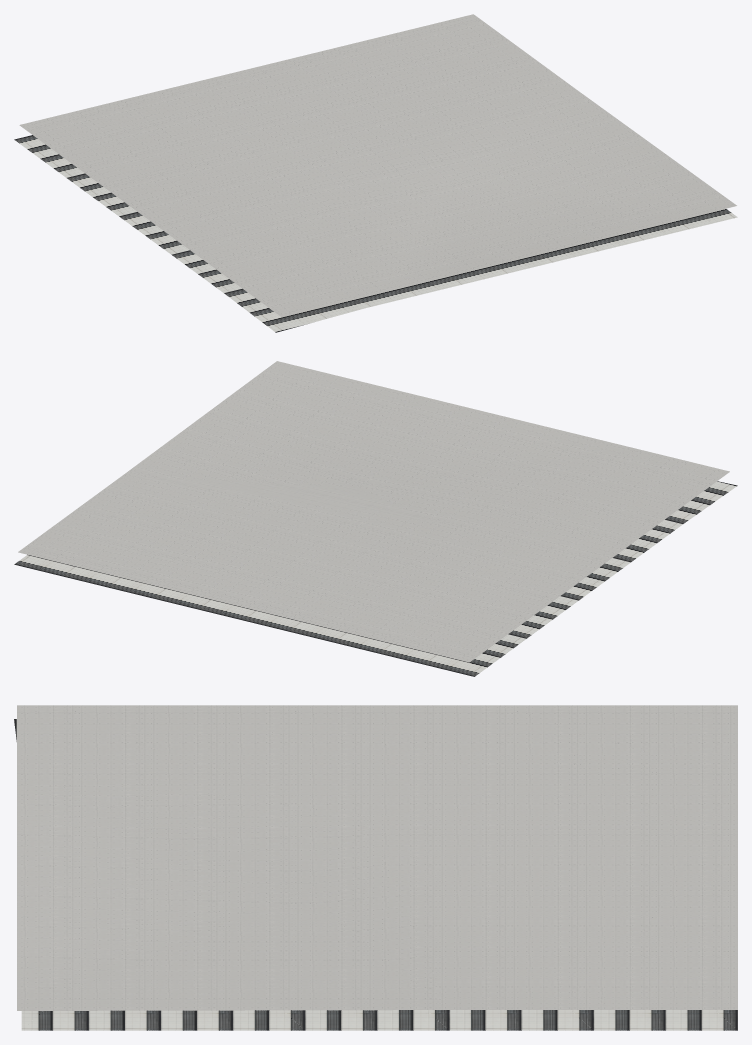
File: Central_floor.FBX
3 views of the same model, one above another, from view 1: azimuth 30°, elevation 25°; view 2: azimuth 150°, elevation 25°; view 3: azimuth 270°, elevation 25° (orthographic). The views are drawn at different scales.
Visible parts, largest first — view 1: Central_floor; view 2: Central_floor; view 3: Central_floor.
Part boxes in pixels (<box>): Central_floor: <box>14,14,737,332</box>; Central_floor: <box>14,361,737,676</box>; Central_floor: <box>14,705,737,1030</box>.
Size of the model in its own units: 307 by 8.36 by 301.
